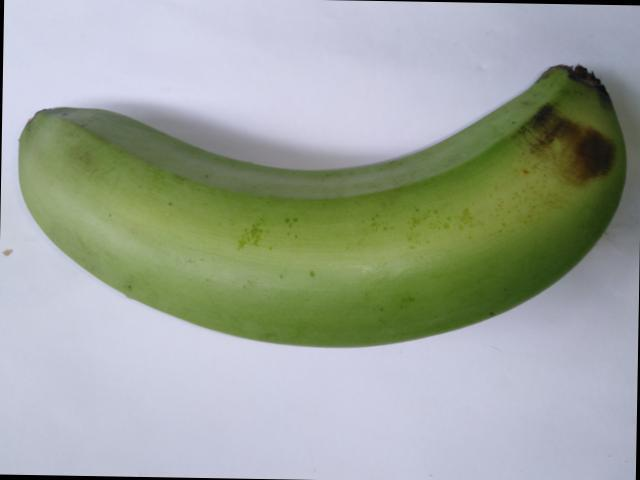freshunripe: (8, 44, 637, 355)
